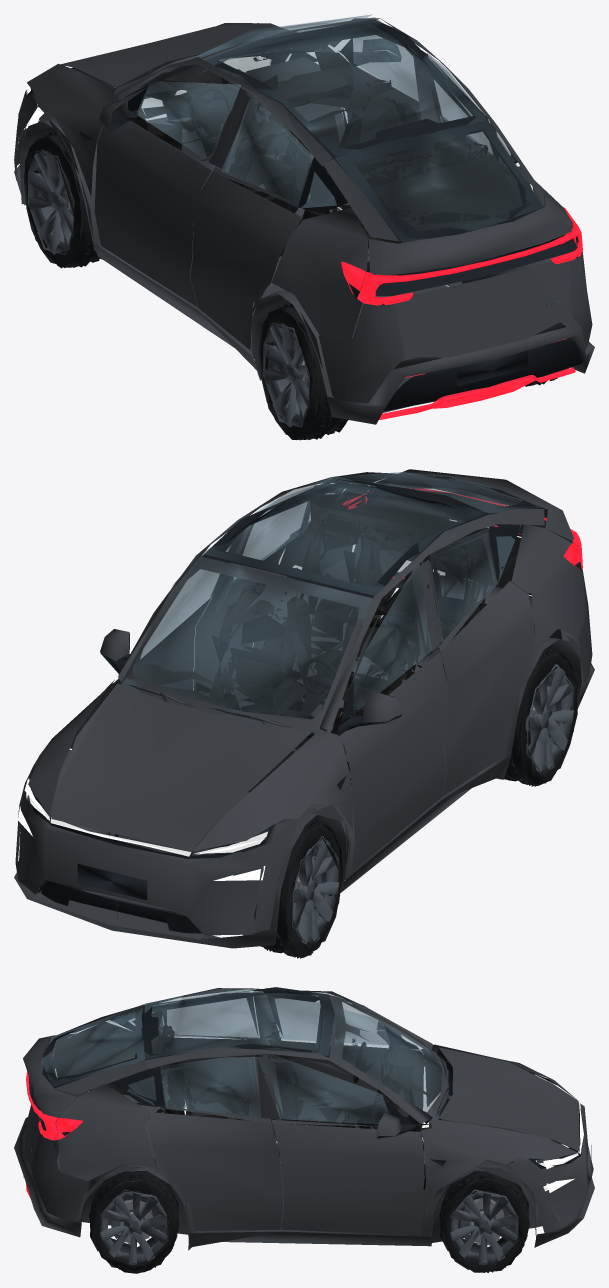
Rendered from suv_traffic.glb.
3 views of the same model, one above another, from view 1: azimuth 30°, elevation 25°; view 2: azimuth 150°, elevation 25°; view 3: azimuth 270°, elevation 25° (orthographic). The views are drawn at different scales.
Parts seen in each view (by area): view 1: Paint, Glazing, Interior, Trim, RollingSurface, RollingSurface.002, Taillight, Headlight; view 2: Paint, Glazing, Interior, Trim, RollingSurface.002, RollingSurface, Headlight, Taillight; view 3: Paint, Glazing, Interior, Trim, RollingSurface.001, RollingSurface.003, Taillight, Headlight.
Part boxes in pixels (x1,y1,x2,y2): Paint: (14,18,594,424); Glazing: (136,14,544,242); Interior: (128,49,523,272); Trim: (26,19,583,411); RollingSurface: (259,303,348,440); RollingSurface.002: (23,131,102,268); Taillight: (341,207,582,419); Headlight: (16,56,271,129); Paint: (14,469,594,948); Glazing: (122,472,543,734); Interior: (132,489,539,792); Trim: (30,474,581,935); RollingSurface.002: (261,821,342,958); RollingSurface: (504,649,577,786); Headlight: (18,778,267,880); Taillight: (342,488,582,578); Paint: (14,988,594,1250); Glazing: (42,988,449,1124); Interior: (54,1011,438,1190); Trim: (23,987,591,1177); RollingSurface.001: (29,1143,179,1273); RollingSurface.003: (439,1170,529,1272); Taillight: (26,1052,82,1198); Headlight: (539,1077,583,1192).
Bounding box in the file's own units: 2.02 × 1.92 × 4.66.
